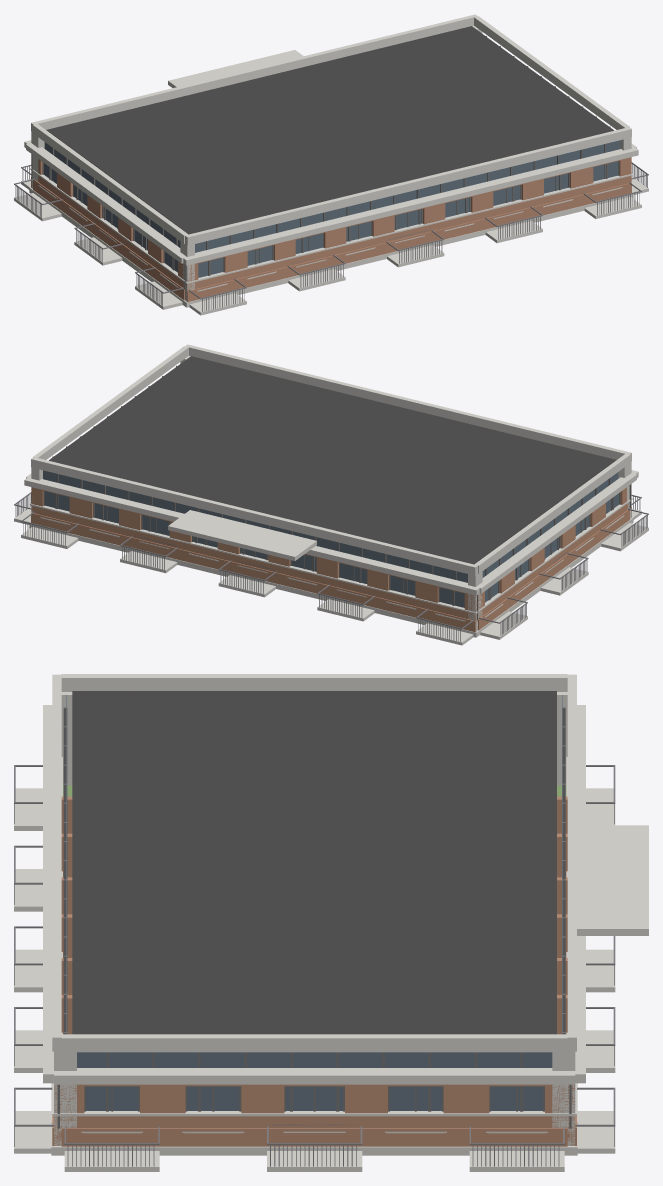
Rendered from torre.glb.
3 renders of one model, top to bottom at view 1: azimuth 30°, elevation 25°; view 2: azimuth 150°, elevation 25°; view 3: azimuth 270°, elevation 25°, orthographic. The views are drawn at different scales.
Parts seen in each view (by area): view 1: baja, piso_B, piso_C, piso, cubierta, piso_A, alero; view 2: baja, piso_B, piso_C, cubierta, piso, piso_A, alero; view 3: baja, piso_B, piso_C, piso, cubierta, piso_A, alero.
Part boxes in pixels (<box>): baja: <box>31,14,631,301</box>; piso_B: <box>24,140,638,302</box>; piso_C: <box>14,157,648,315</box>; piso: <box>31,148,632,300</box>; cubierta: <box>29,168,633,307</box>; piso_A: <box>31,144,631,291</box>; alero: <box>168,50,303,87</box>; baja: <box>31,344,631,631</box>; piso_B: <box>24,470,638,632</box>; piso_C: <box>14,492,648,645</box>; cubierta: <box>29,498,633,637</box>; piso: <box>30,478,624,631</box>; piso_A: <box>31,474,631,621</box>; alero: <box>168,510,316,560</box>; baja: <box>52,674,576,1145</box>; piso_B: <box>43,705,585,1146</box>; piso_C: <box>14,765,615,1171</box>; piso: <box>51,707,577,1145</box>; cubierta: <box>51,757,577,1155</box>; piso_A: <box>50,706,578,1133</box>; alero: <box>577,825,648,935</box>.
Bounding box in the file's own units: 30.6 × 4.22 × 20.7.
